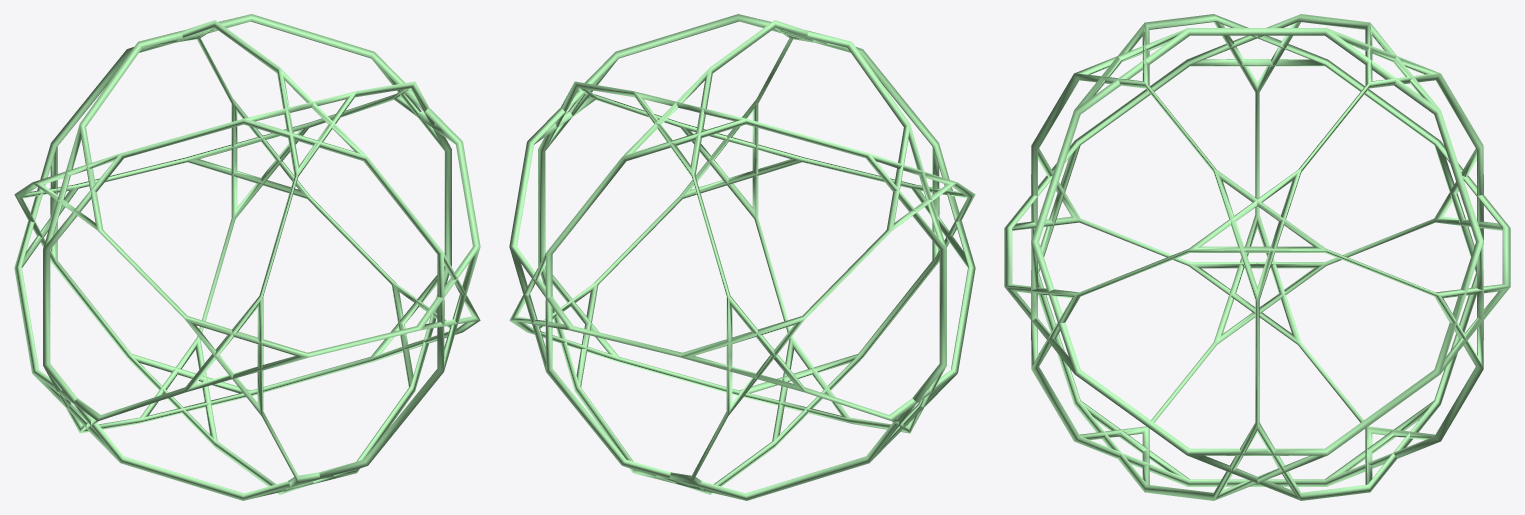
File: TruncatedGreatDodecahedron1.glb
3 renders of one model, left to right at view 1: azimuth 30°, elevation 25°; view 2: azimuth 150°, elevation 25°; view 3: azimuth 270°, elevation 25°, orthographic. The views are drawn at different scales.
Parts seen in each view (by area): view 1: TruncatedGreatDodecahedron; view 2: TruncatedGreatDodecahedron; view 3: TruncatedGreatDodecahedron.
Boxes of the visible parts, x1,y1,x2,y2 form: TruncatedGreatDodecahedron: [14, 14, 480, 500]; TruncatedGreatDodecahedron: [509, 14, 975, 500]; TruncatedGreatDodecahedron: [1004, 14, 1510, 500].
Bounding box in the file's own units: 3.68 × 3.68 × 3.68.
